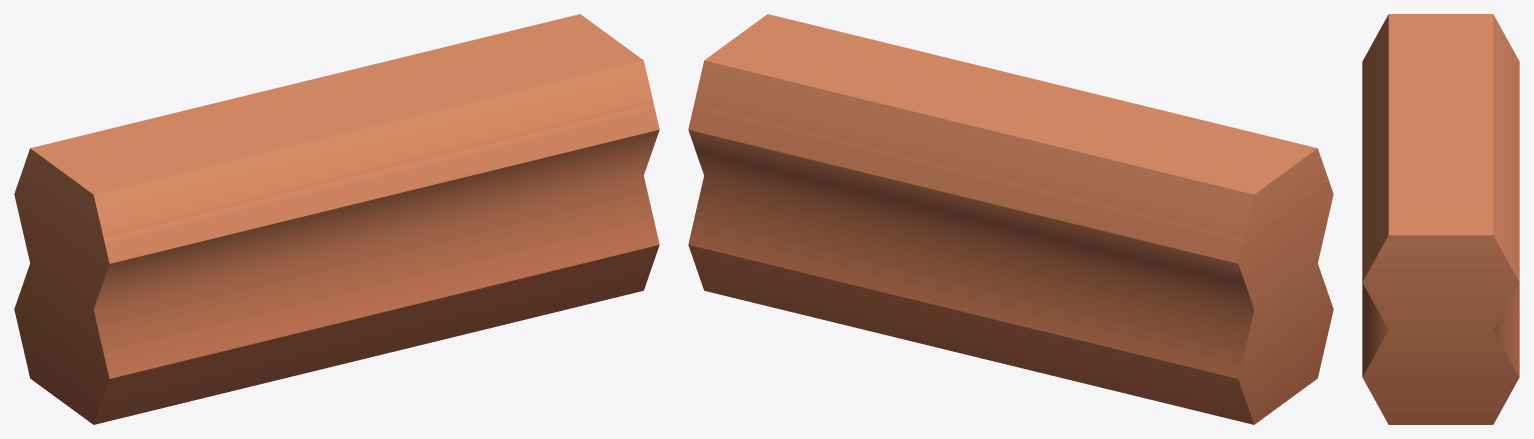
The model's file is kenney-holiday-cabin-wall-low.glb.
The picture shows the model from 3 angles, left to right: view 1: azimuth 30°, elevation 25°; view 2: azimuth 150°, elevation 25°; view 3: azimuth 270°, elevation 25°; orthographic projection. The views are drawn at different scales.
Parts seen in each view (by area): view 1: cabin-wall-low; view 2: cabin-wall-low; view 3: cabin-wall-low.
Boxes of the visible parts, x1,y1,x2,y2 form: cabin-wall-low: [14, 14, 659, 424]; cabin-wall-low: [688, 14, 1333, 424]; cabin-wall-low: [1362, 14, 1519, 424].
Bounding box in the file's own units: 1 × 0.3999 × 0.3.
1 material, 1 textured.
